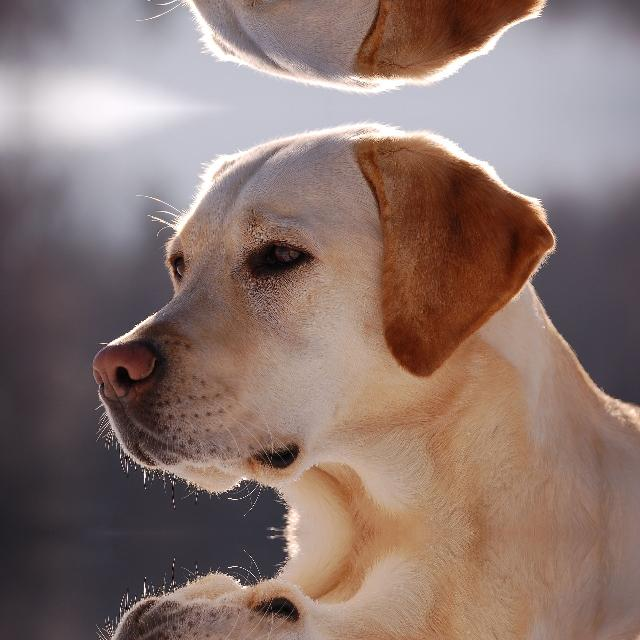dog: (86, 116, 560, 508), (86, 0, 560, 98), (86, 558, 560, 640)
